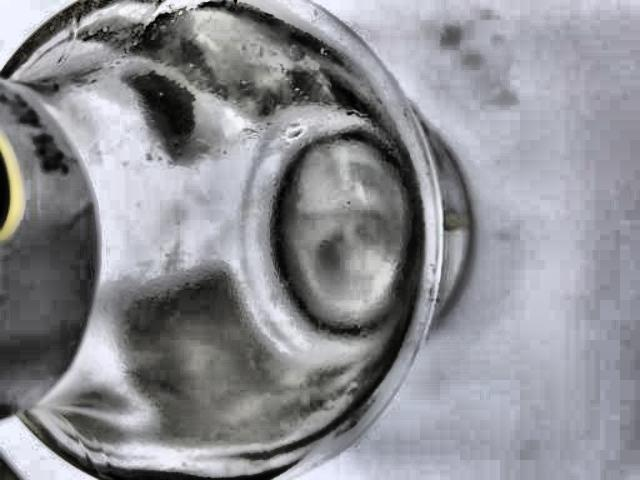Bottles: (0, 0, 479, 480)
